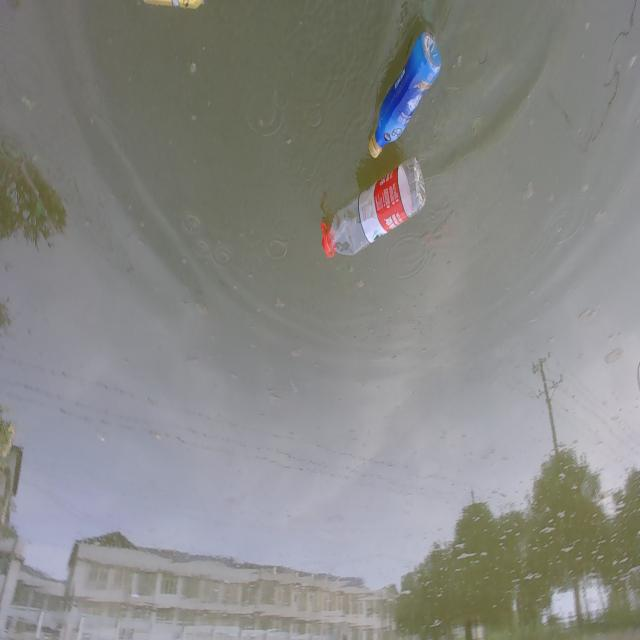Bottle: (319, 161, 429, 257), (367, 23, 442, 157)
